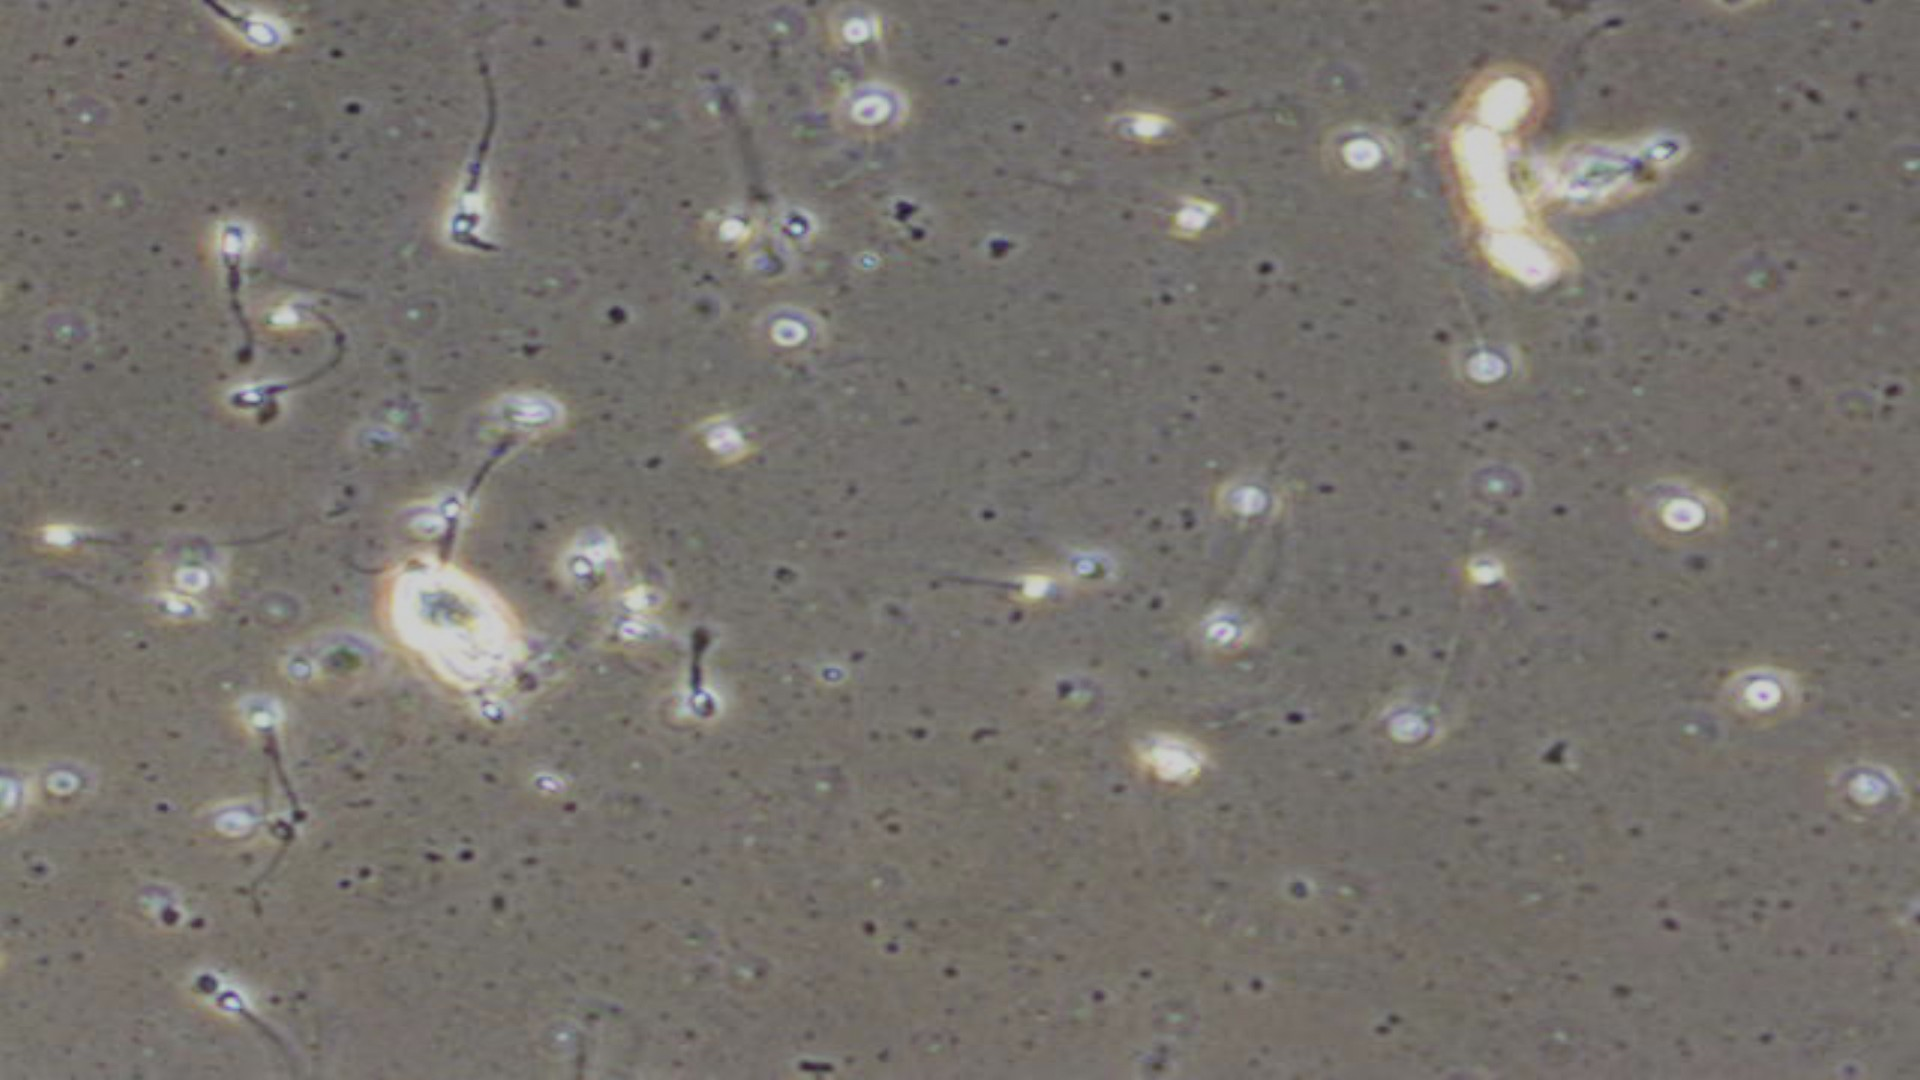sperm: (206, 978, 349, 1079), (211, 214, 270, 348), (454, 98, 510, 222), (239, 702, 313, 795), (206, 1, 295, 66), (38, 514, 136, 574), (931, 566, 1054, 611), (1614, 129, 1683, 179), (442, 481, 477, 554)
